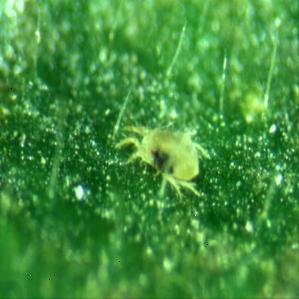spider mite: (96, 96, 222, 214)
